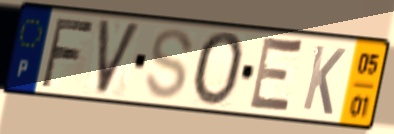E: (246, 32, 307, 118)
F: (38, 15, 97, 90)
K: (299, 42, 348, 118)
O: (190, 30, 248, 111)
S: (142, 26, 196, 102)
V: (95, 17, 144, 99)
